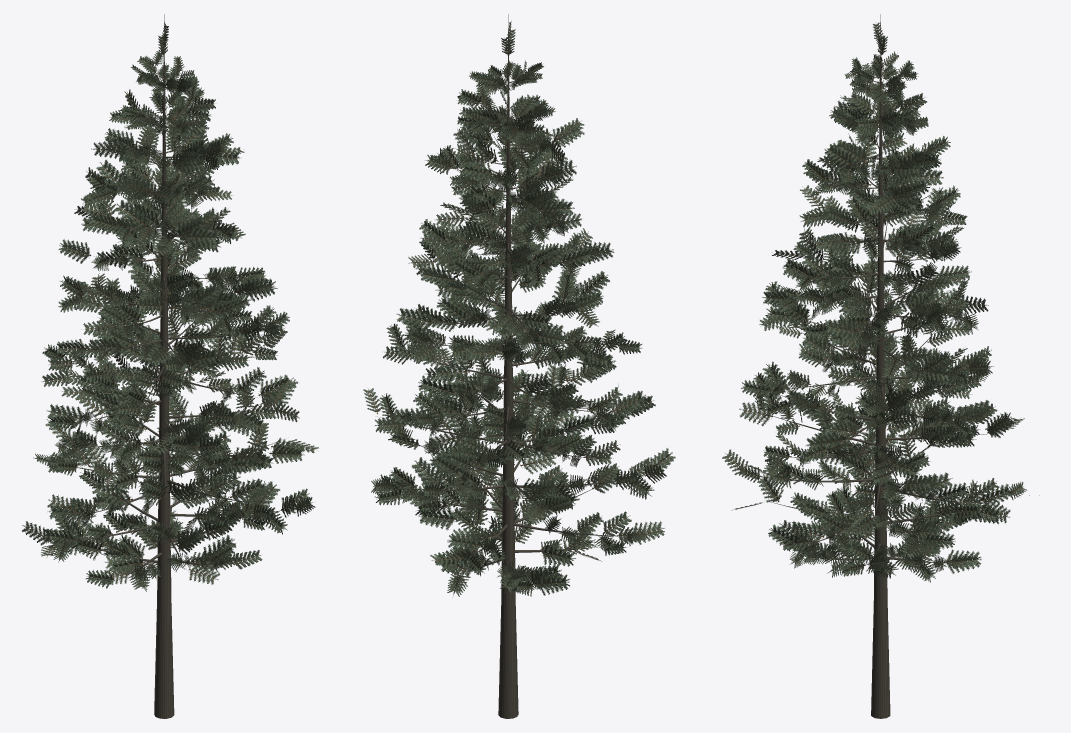
File: Sitka_Pole_01_Unpruned_LOD1.fbx
The picture shows the model from 3 angles, left to right: view 1: azimuth 30°, elevation 25°; view 2: azimuth 150°, elevation 25°; view 3: azimuth 270°, elevation 25°; orthographic projection.
Parts seen in each view (by area): view 1: Sitka_Pole_01_Unpruned_LOD1; view 2: Sitka_Pole_01_Unpruned_LOD1; view 3: Sitka_Pole_01_Unpruned_LOD1.
Boxes of the visible parts, box(x1,y1,x2,y2) form: Sitka_Pole_01_Unpruned_LOD1: box(22, 14, 318, 718); Sitka_Pole_01_Unpruned_LOD1: box(363, 14, 675, 718); Sitka_Pole_01_Unpruned_LOD1: box(722, 14, 1039, 718).
Size of the model in its own units: 353 by 800 by 355.
2 materials, 2 textured.
